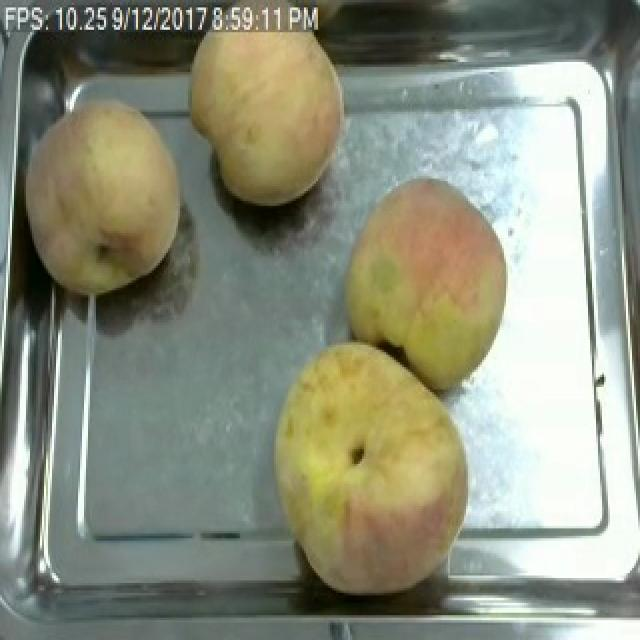Fruit: (262, 332, 482, 608), (14, 77, 198, 305), (334, 174, 516, 397), (176, 30, 354, 216)
